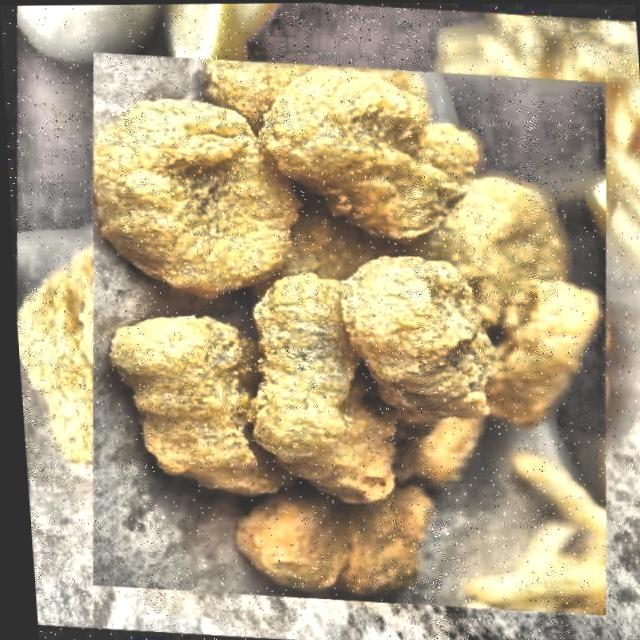Food: (48, 47, 640, 619)
